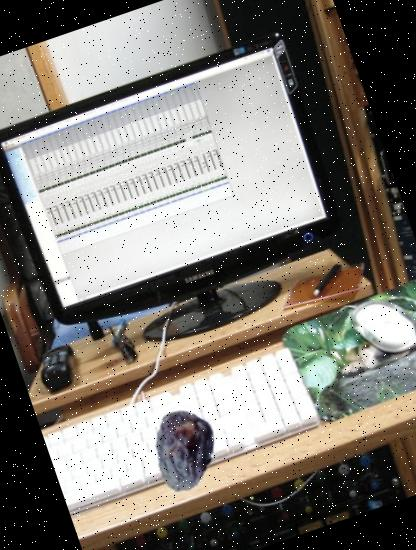Dates: (131, 400, 231, 500)
